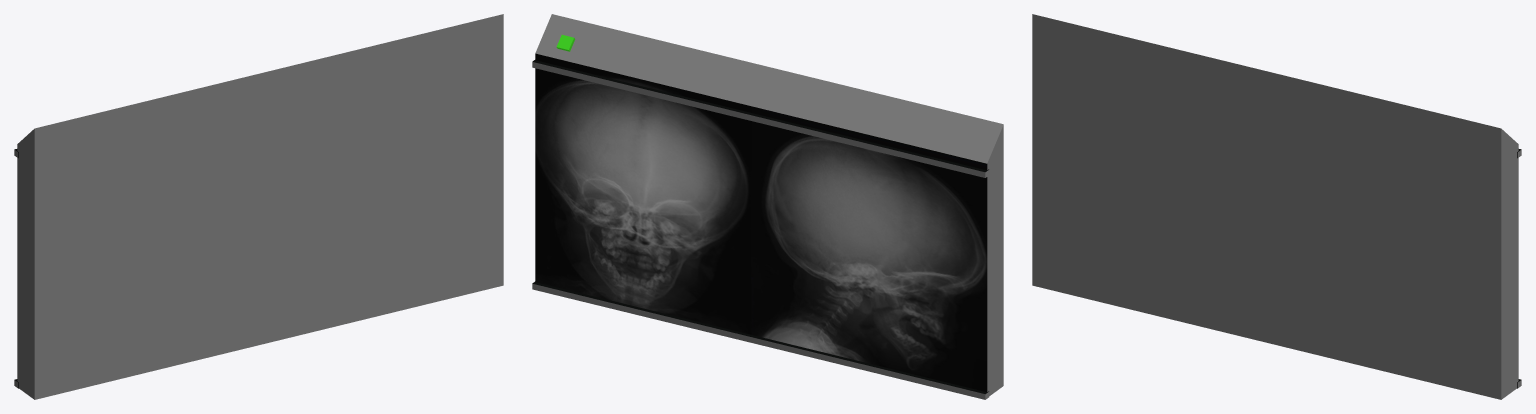
File: RENTGENV1.fbx
3 views of the same model, side by side, from view 1: azimuth 30°, elevation 25°; view 2: azimuth 150°, elevation 25°; view 3: azimuth 330°, elevation 25° (orthographic). The views are drawn at different scales.
Parts seen in each view (by area): view 1: node_05bbc738_6523_4855_a319_ba6cf125967a_mesh0; view 2: node_05bbc738_6523_4855_a319_ba6cf125967a_mesh0; view 3: node_05bbc738_6523_4855_a319_ba6cf125967a_mesh0.
Part boxes in pixels (x1=…): node_05bbc738_6523_4855_a319_ba6cf125967a_mesh0: x1=14, y1=14, x2=503, y2=399; node_05bbc738_6523_4855_a319_ba6cf125967a_mesh0: x1=532, y1=14, x2=1003, y2=399; node_05bbc738_6523_4855_a319_ba6cf125967a_mesh0: x1=1032, y1=14, x2=1521, y2=399.
Bounding box in the file's own units: 8250 × 4550 × 600.
Materials: 3 (1 with a texture image).
